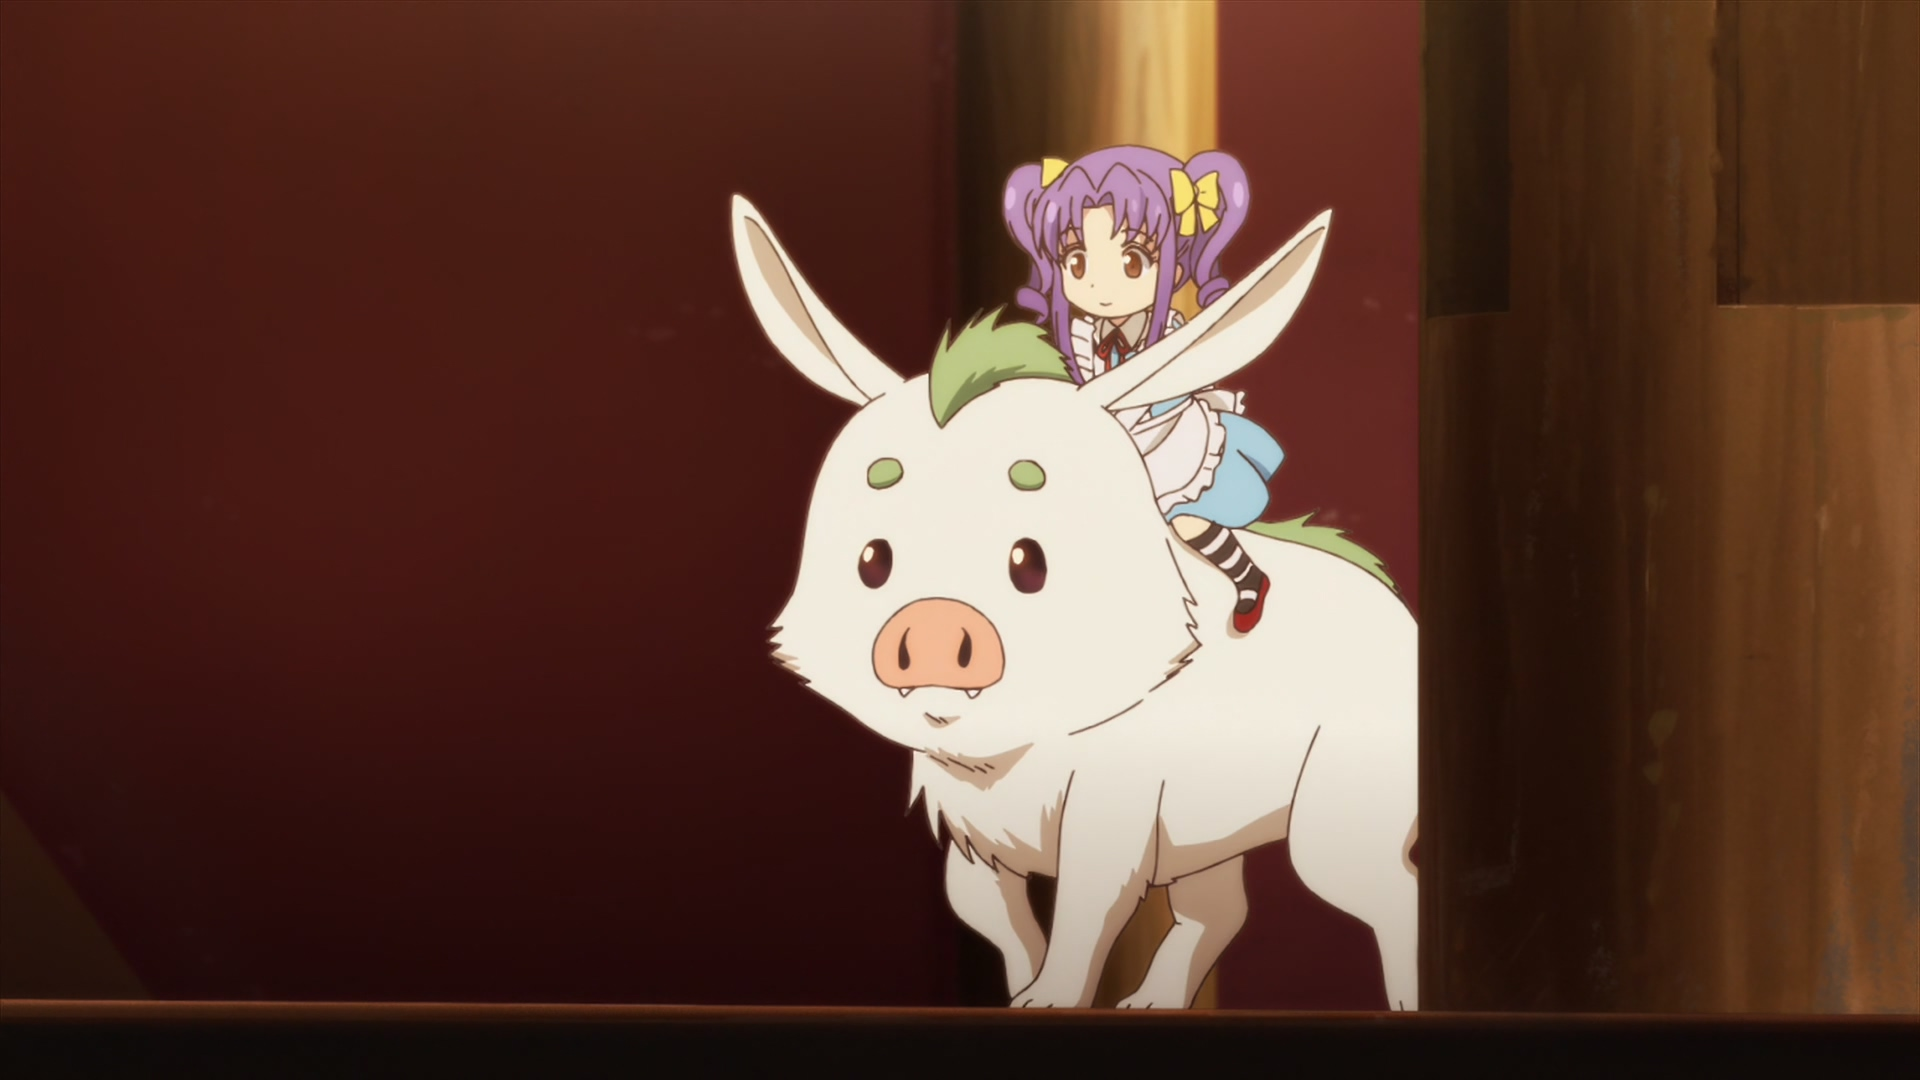瓜之介: (729, 190, 1416, 1011)
阿菊: (1000, 145, 1286, 636)
